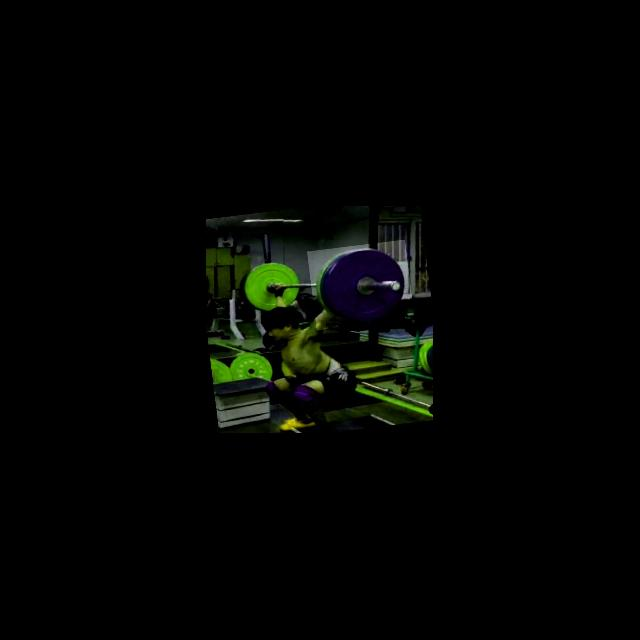barbell: (307, 239, 414, 330)
